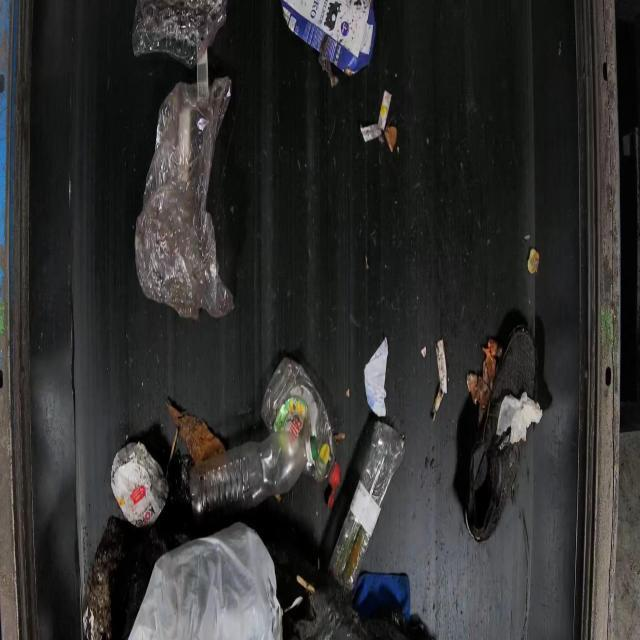cups: (181, 413, 309, 514)
